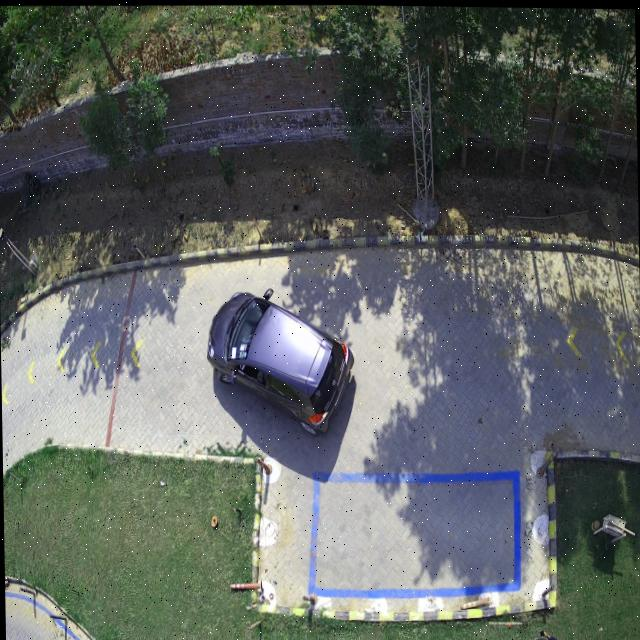car: (207, 287, 353, 434)
